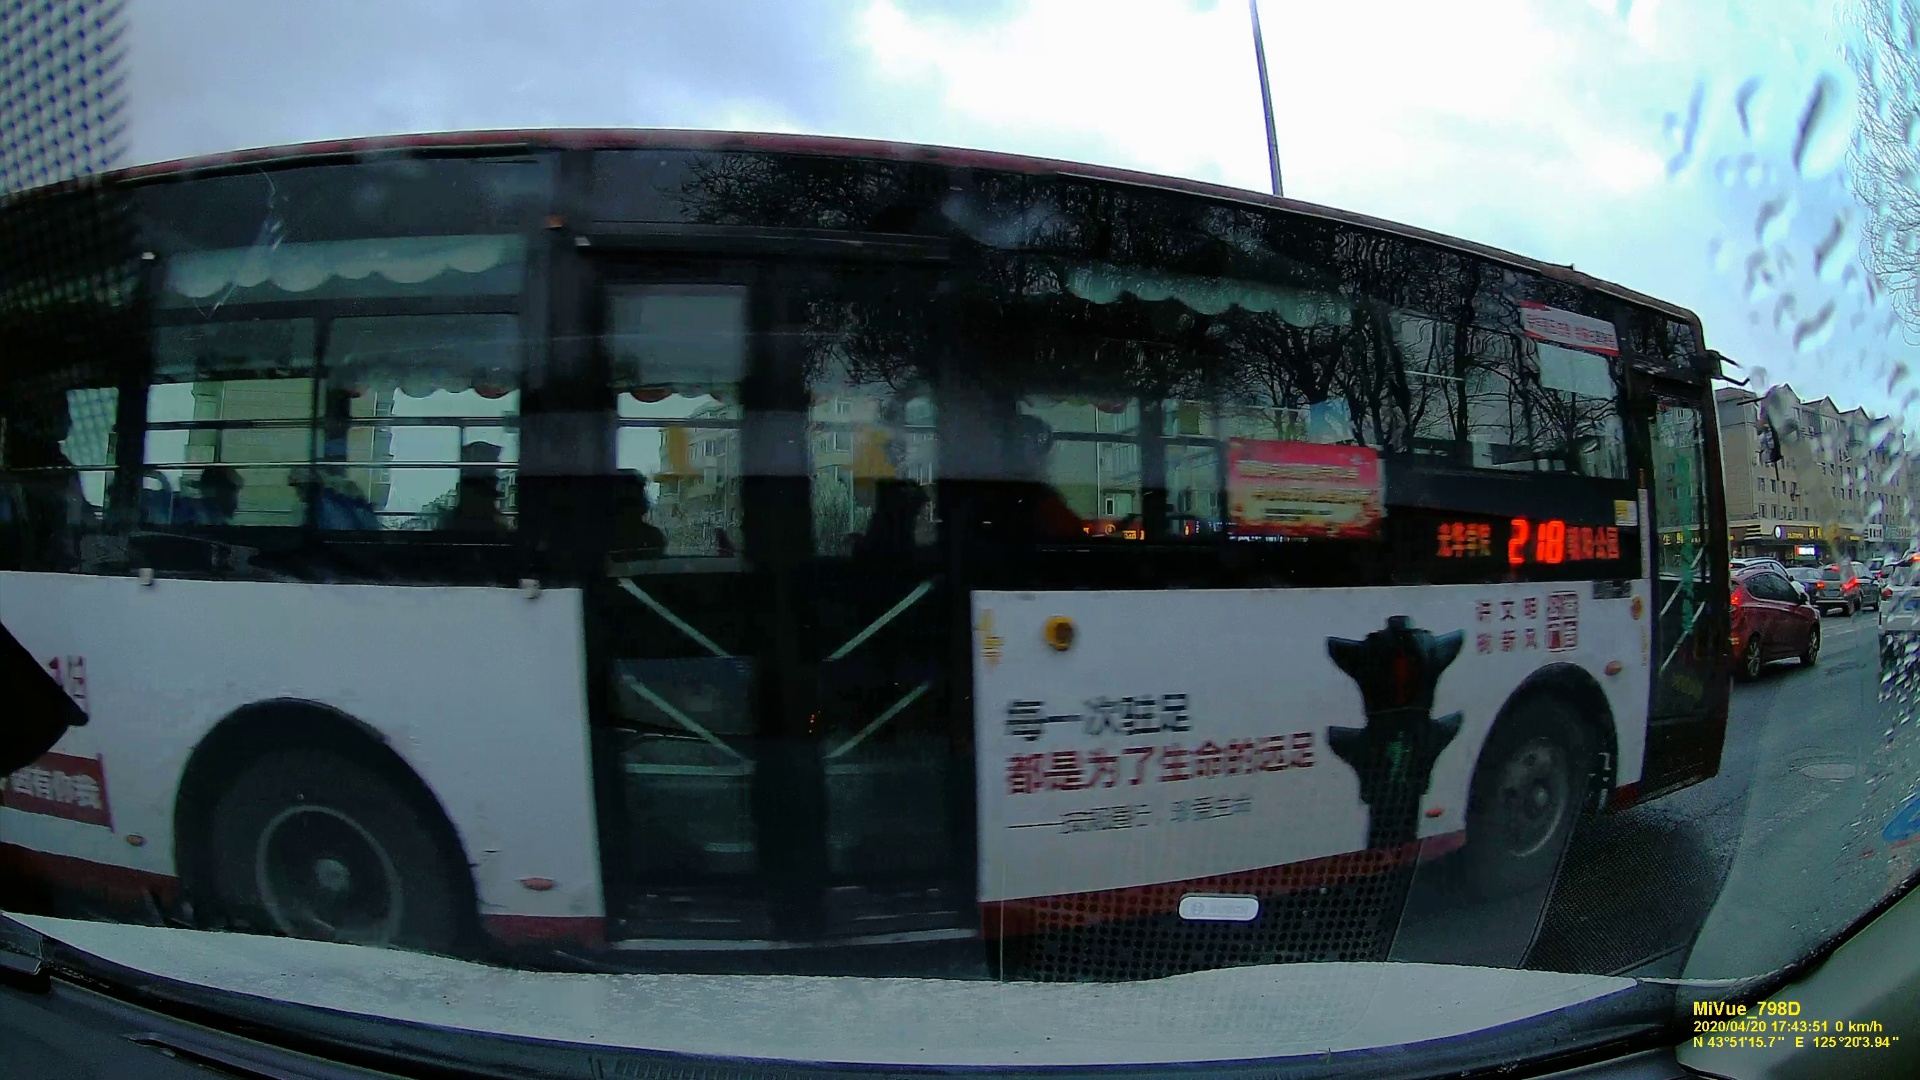bus: (3, 141, 1720, 942)
vehicle: (1731, 564, 1826, 679)
